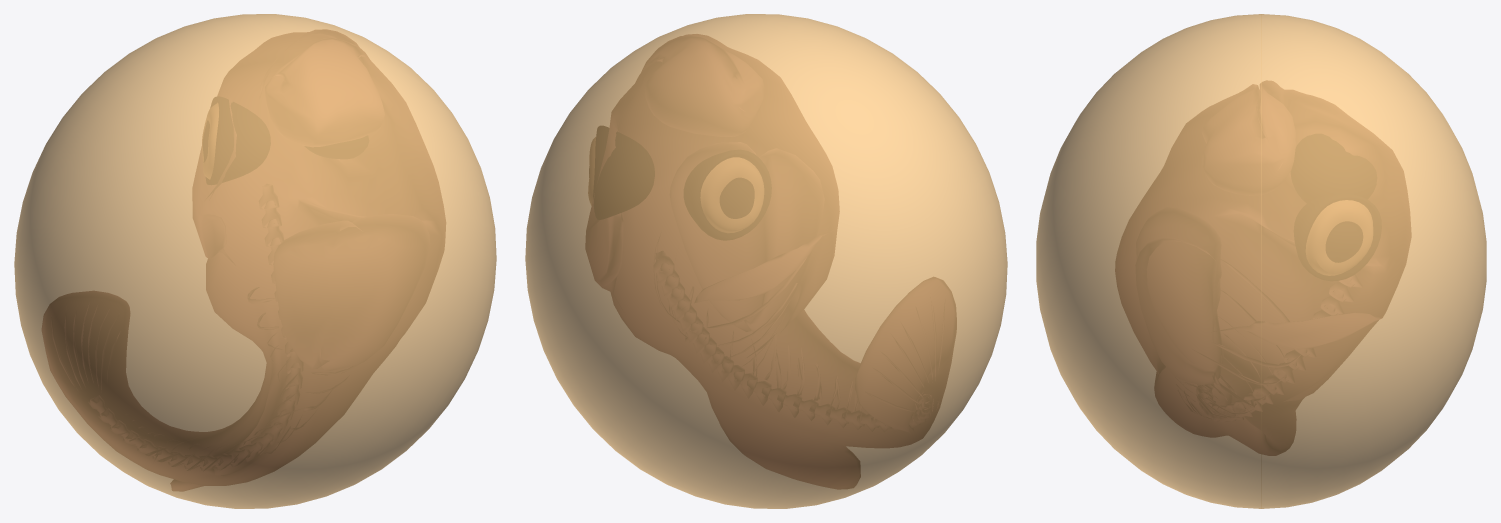
The model's file is fish-fry-retopo-9.gltf.
3 views of the same model, side by side, from view 1: azimuth 30°, elevation 25°; view 2: azimuth 150°, elevation 25°; view 3: azimuth 270°, elevation 25° (orthographic).
Visible parts, largest first — view 1: Sphere.1, Fry Model 4-Fish, Fry Model 4-Mat.4, Fry Model 4-eye_gold; view 2: Sphere.1, Fry Model 4-Fish, Fry Model 4-Mat.4, Fry Model 4-eye_gold; view 3: Sphere.1, Fry Model 4-Fish, Fry Model 4-Mat.4, Fry Model 4-eye_gold.
Part boxes in pixels (x1,y1,x2,y2): Sphere.1: (14, 14, 496, 508); Fry Model 4-Fish: (42, 30, 445, 490); Fry Model 4-Mat.4: (203, 97, 368, 184); Fry Model 4-eye_gold: (202, 103, 218, 178); Sphere.1: (525, 14, 1007, 508); Fry Model 4-Fish: (586, 34, 956, 488); Fry Model 4-Mat.4: (593, 126, 771, 239); Fry Model 4-eye_gold: (588, 137, 763, 232); Sphere.1: (1036, 14, 1486, 508); Fry Model 4-Fish: (1115, 81, 1410, 455); Fry Model 4-Mat.4: (1291, 134, 1381, 280); Fry Model 4-eye_gold: (1306, 200, 1372, 275).
Bounding box in the file's own units: 149 × 152 × 138.
